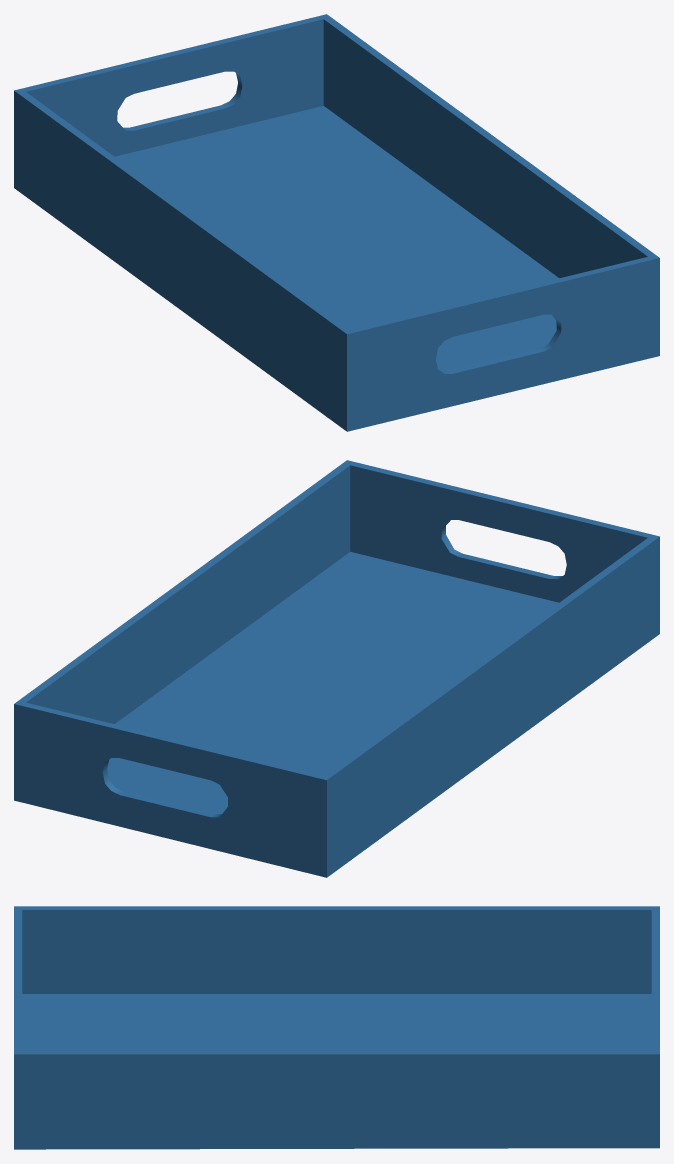
File: bandeja.fbx
3 views of the same model, one above another, from view 1: azimuth 30°, elevation 25°; view 2: azimuth 150°, elevation 25°; view 3: azimuth 270°, elevation 25° (orthographic). The views are drawn at different scales.
Parts seen in each view (by area): view 1: Bandeja; view 2: Bandeja; view 3: Bandeja.
Boxes of the visible parts, x1,y1,x2,y2 form: Bandeja: [14, 14, 659, 431]; Bandeja: [14, 460, 659, 877]; Bandeja: [14, 906, 659, 1149].
Size of the model in its own units: 0.3627 by 0.1086 by 0.6688.
